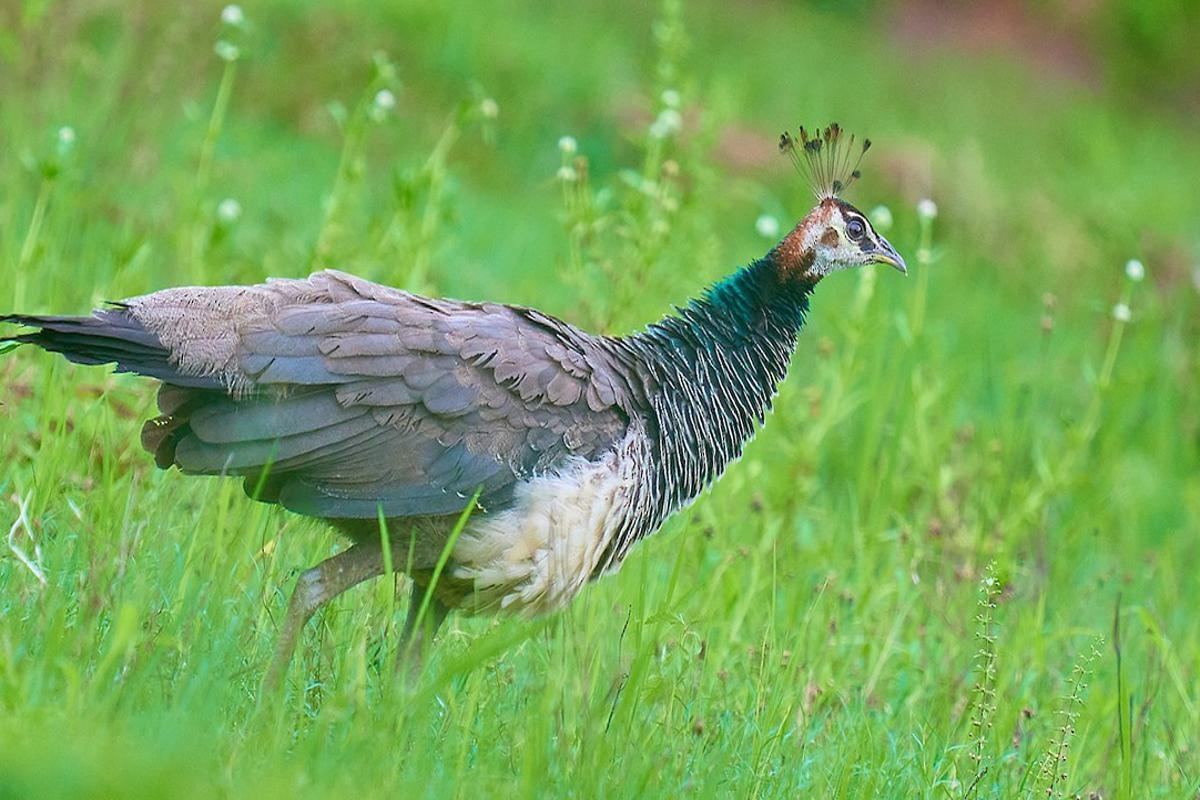peacock: (10, 123, 911, 706)
